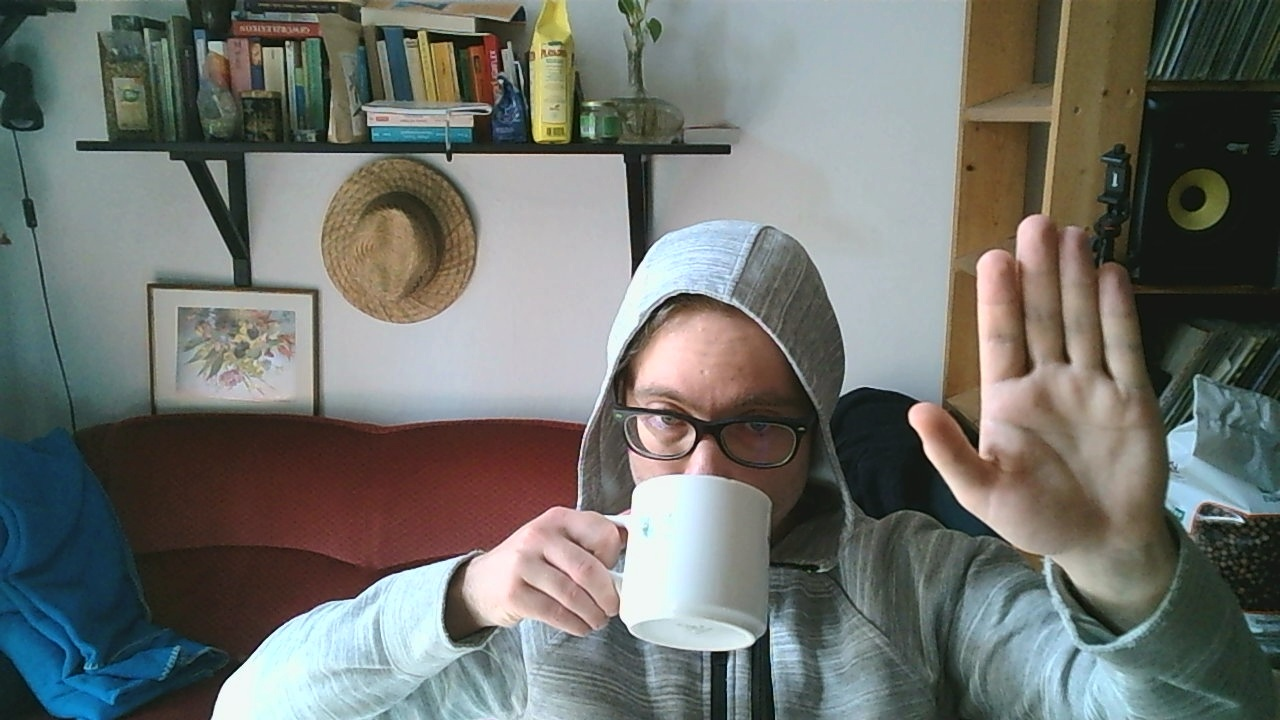hello: (906, 211, 1166, 560)
